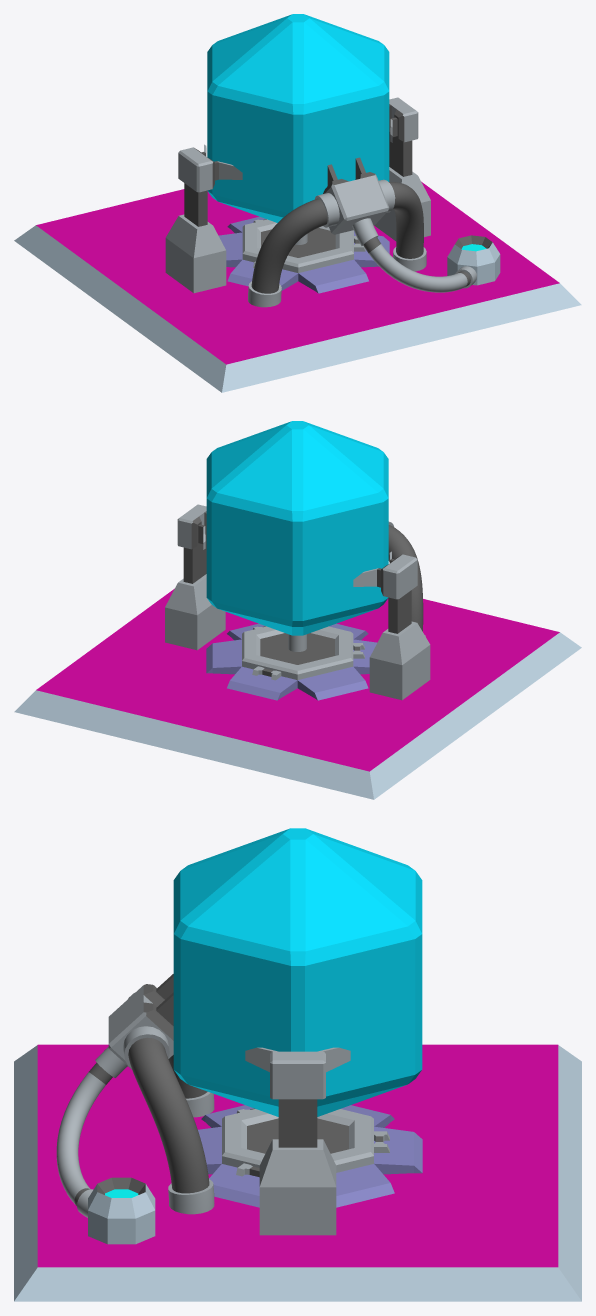
Rendered from Reservoir4.fbx.
3 views of the same model, one above another, from view 1: azimuth 30°, elevation 25°; view 2: azimuth 150°, elevation 25°; view 3: azimuth 270°, elevation 25° (orthographic). The views are drawn at different scales.
Visible parts, largest first — view 1: foundation_4, pSphere26, installation4, pCube118, pCylinder87, pCube119 (×2), pCube136, pCylinder86, alch_base4, pCube120, alch_beacon; view 2: foundation_4, pSphere26, installation4, pCube118, pCube120, pCube119 (×2), pCylinder87; view 3: foundation_4, pSphere26, installation4, pCube120, pCylinder86, alch_base4, alch_beacon, pCube119, pCube136, pCylinder87.
Part boxes in pixels (x1,y1,x2,y2): foundation_4: [14, 181, 581, 392]; pSphere26: [207, 14, 389, 222]; installation4: [219, 216, 389, 293]; pCube118: [165, 183, 226, 293]; pCylinder87: [248, 193, 339, 307]; pCube119 (×2): [178, 97, 418, 192]; pCube136: [323, 157, 389, 234]; pCylinder86: [379, 179, 426, 271]; alch_base4: [352, 218, 476, 292]; pCube120: [374, 132, 430, 241]; alch_beacon: [447, 235, 500, 285]; foundation_4: [14, 588, 581, 799]; pSphere26: [206, 421, 388, 635]; installation4: [206, 623, 376, 700]; pCube118: [369, 590, 430, 700]; pCube120: [165, 539, 225, 650]; pCube119 (×2): [177, 504, 417, 599]; pCylinder87: [388, 521, 425, 636]; foundation_4: [14, 1044, 581, 1301]; pSphere26: [173, 828, 422, 1116]; installation4: [198, 1105, 422, 1207]; pCube120: [259, 1099, 336, 1235]; pCylinder86: [123, 1026, 214, 1214]; alch_base4: [56, 1047, 127, 1217]; alch_beacon: [88, 1177, 155, 1244]; pCube119: [245, 1047, 350, 1099]; pCube136: [108, 974, 173, 1069]; pCylinder87: [128, 993, 214, 1117].
Bounding box in the file's own units: 2 × 1.35 × 2.
